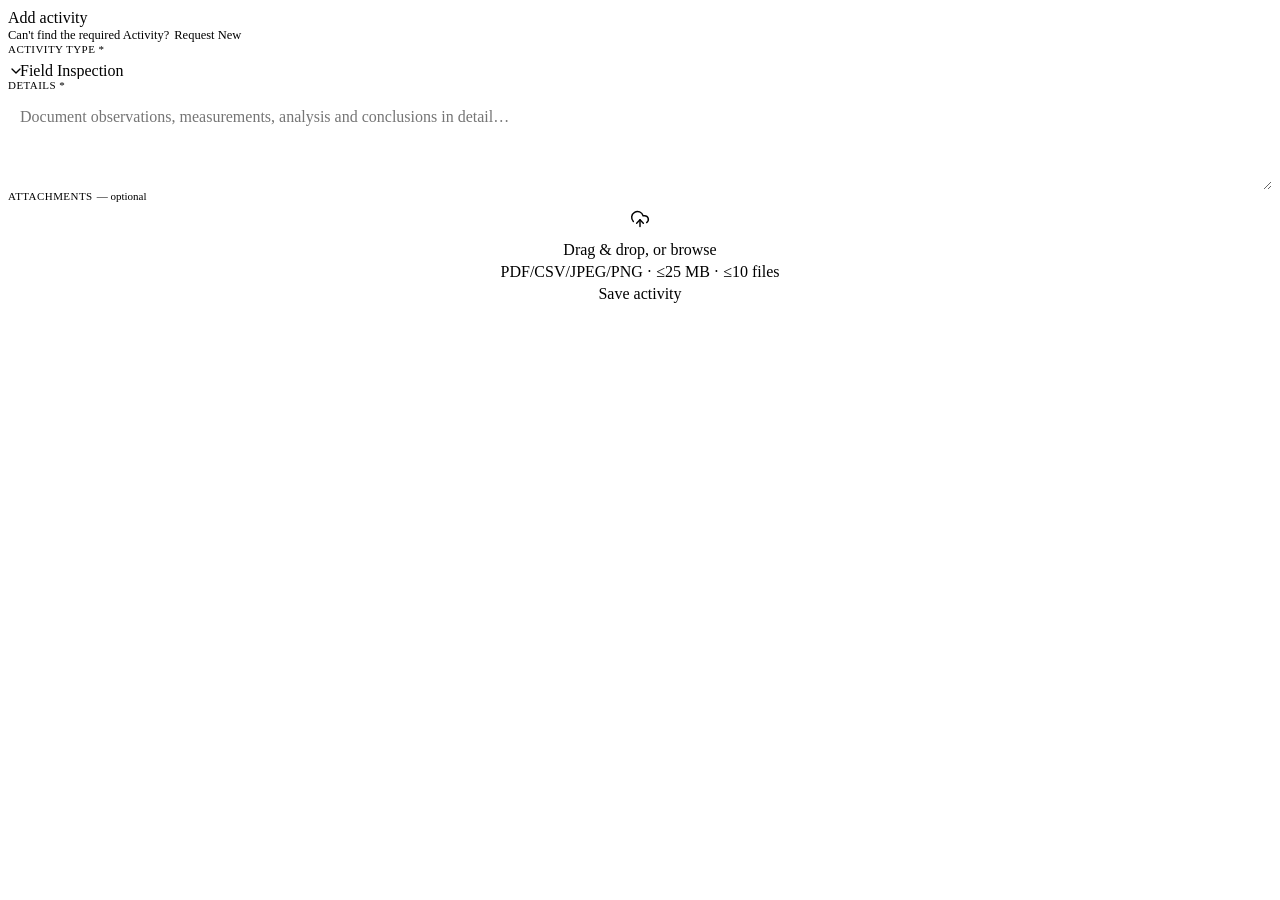
Test: the two add-paths are wired to the right fields › Team members opens the modal too
Select "Joint Investigation" in the dropdown named "Activity type" at (640, 70), box [8, 62, 1272, 79]
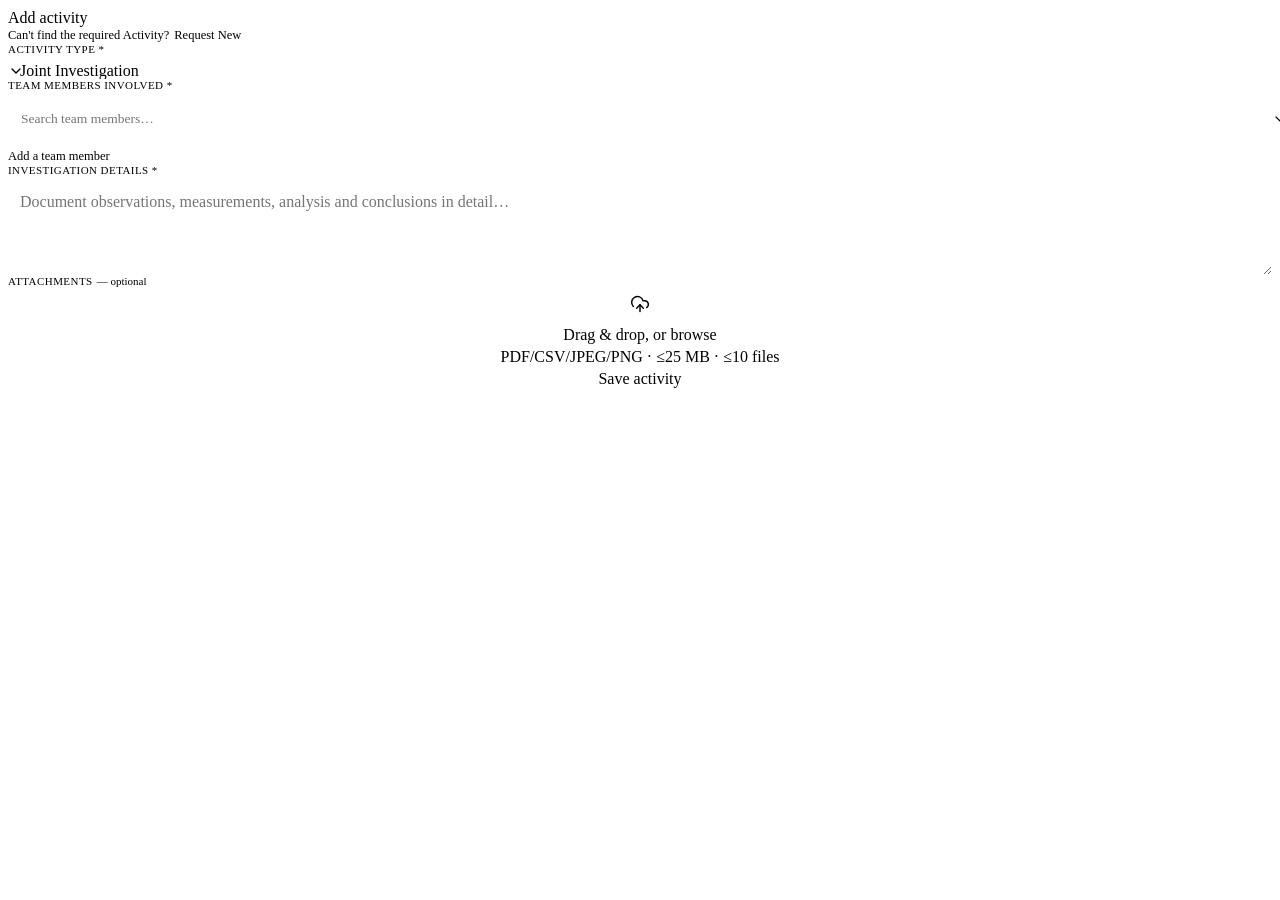
Click the button "Add a team member" at (59, 156), box [8, 149, 110, 164]
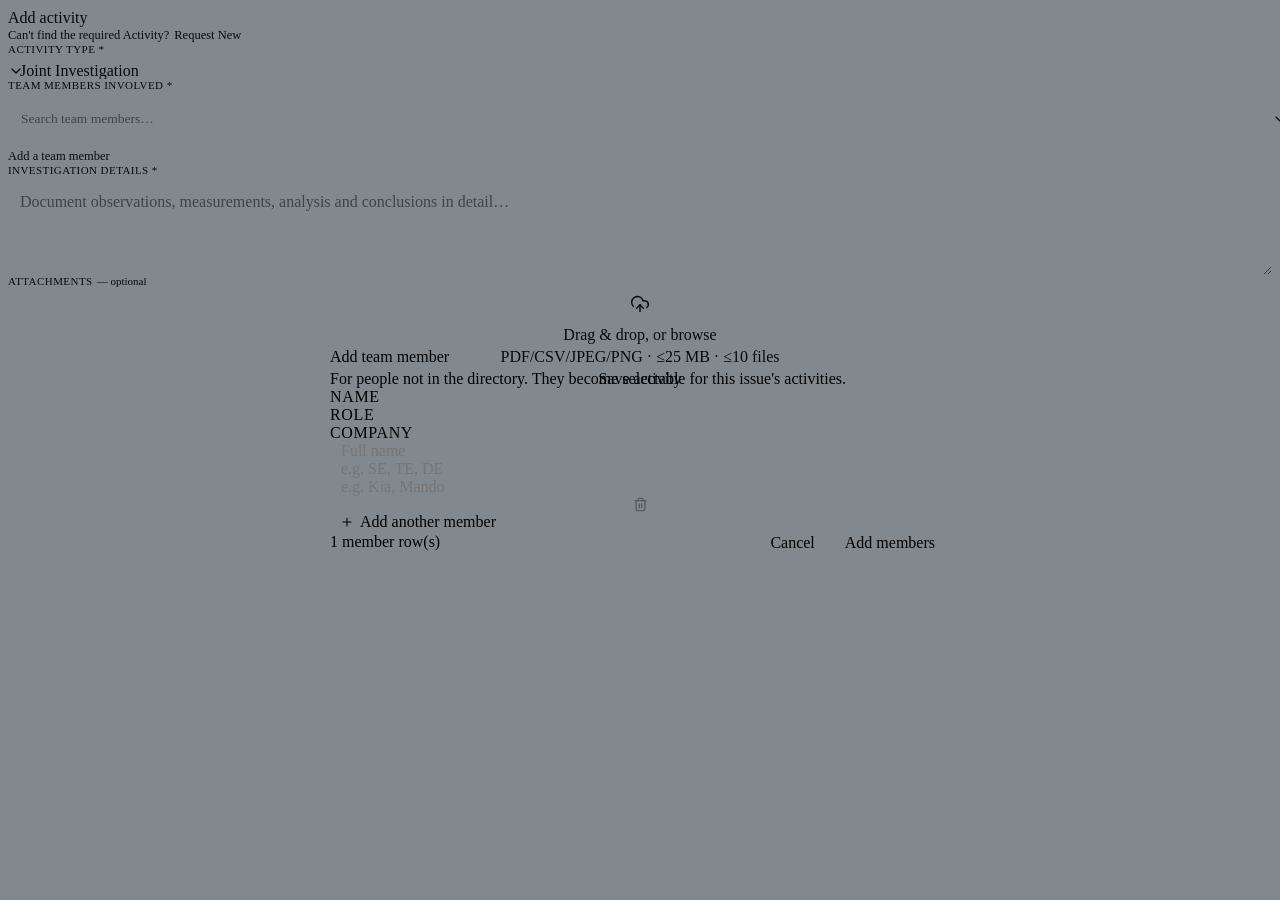
Now the element with test id "multi-row-draft-modal" is shown, box [330, 388, 950, 532]
Now the field named "Company 1" is shown, box [330, 478, 950, 496]
